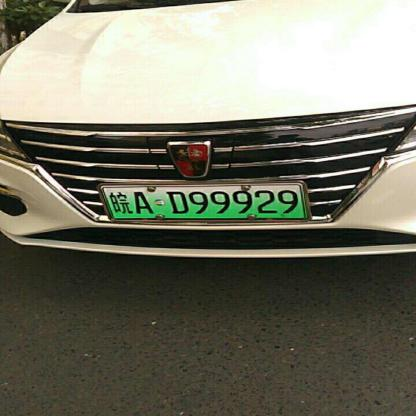lp: (100, 182, 306, 218)
